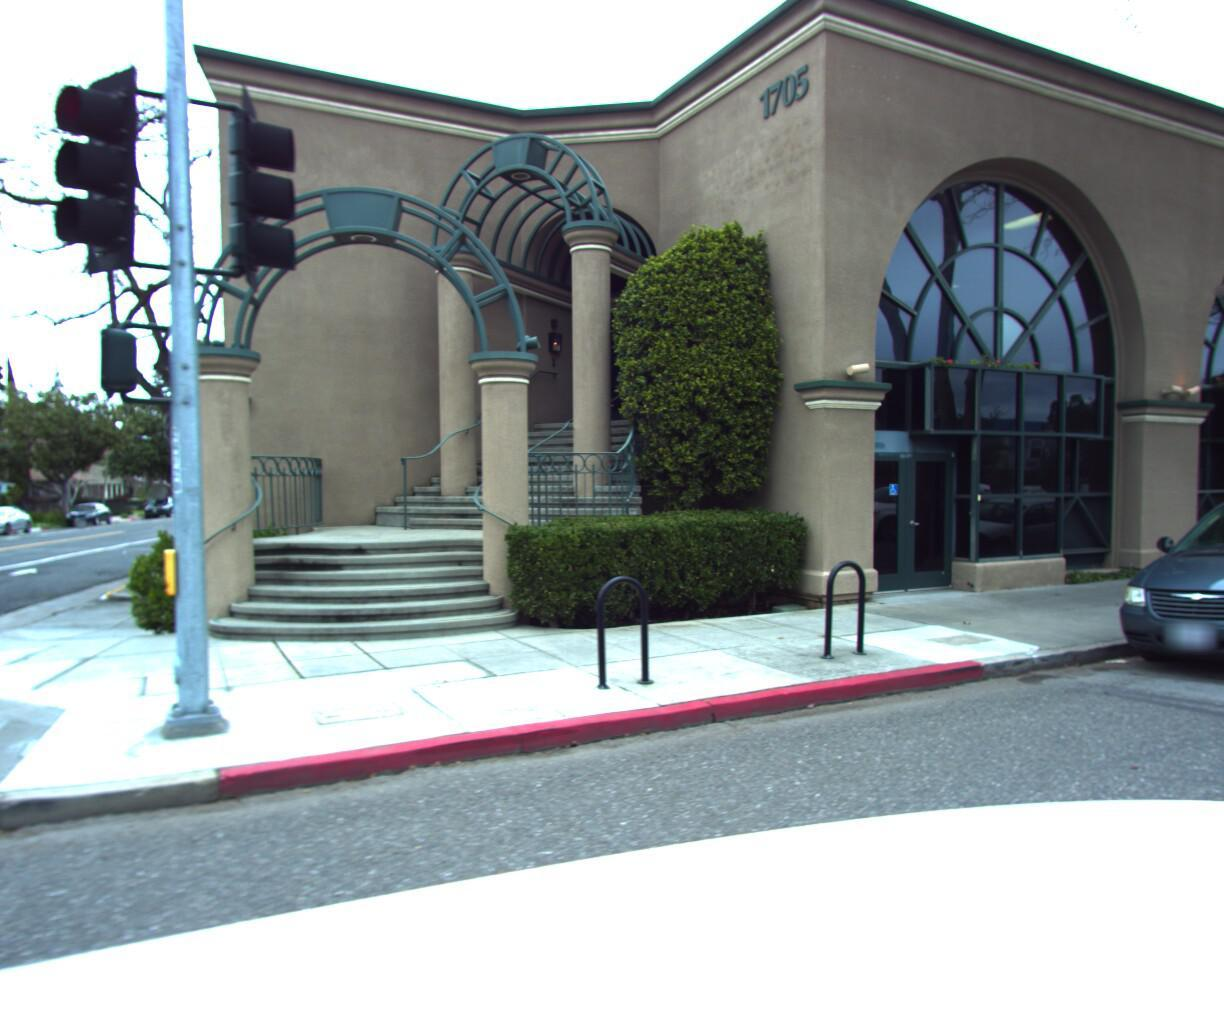car: (1078, 467, 1224, 708), (0, 502, 41, 541), (62, 502, 118, 527), (143, 500, 181, 519)
